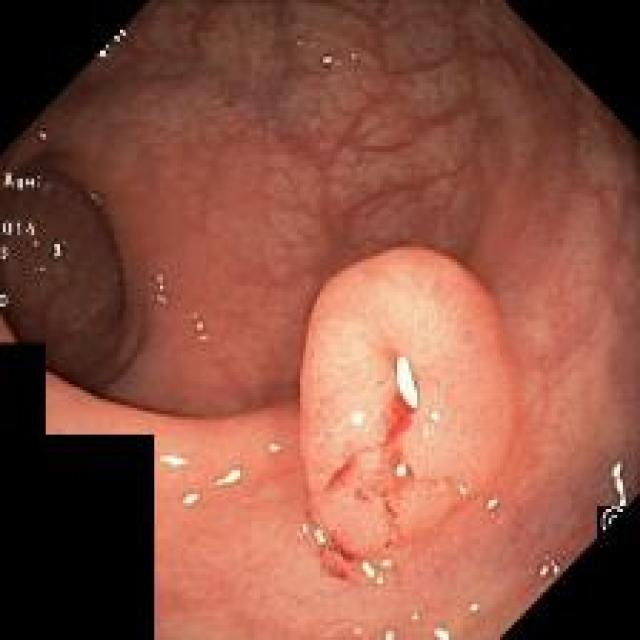Polyps: (300, 250, 519, 578)
